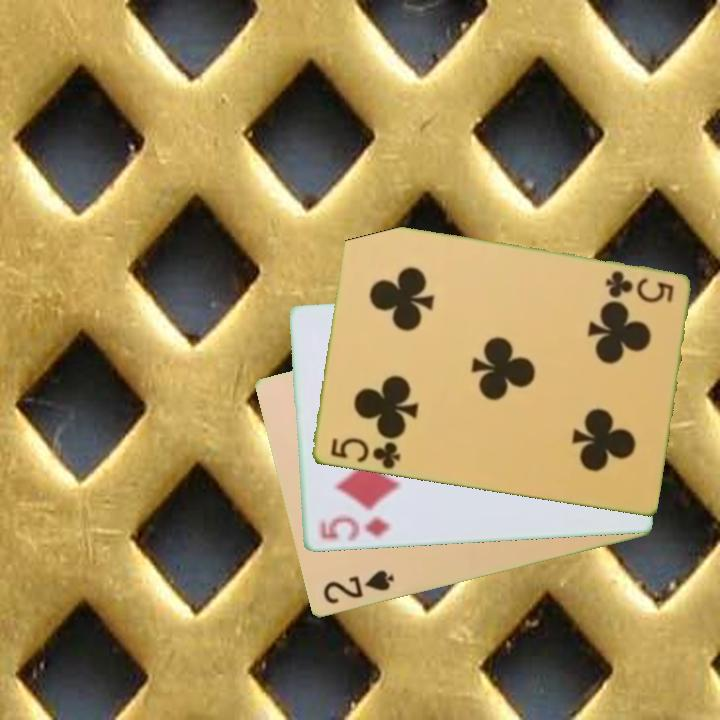2s: (319, 567, 397, 608)
5c: (326, 434, 403, 472), (601, 267, 676, 306)
5d: (316, 513, 393, 544)
